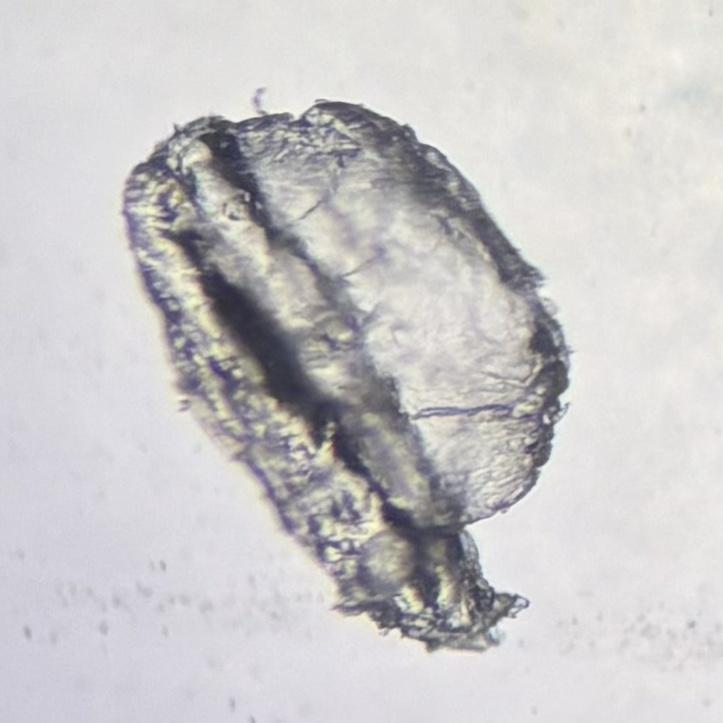microplastic: (119, 88, 572, 653)
